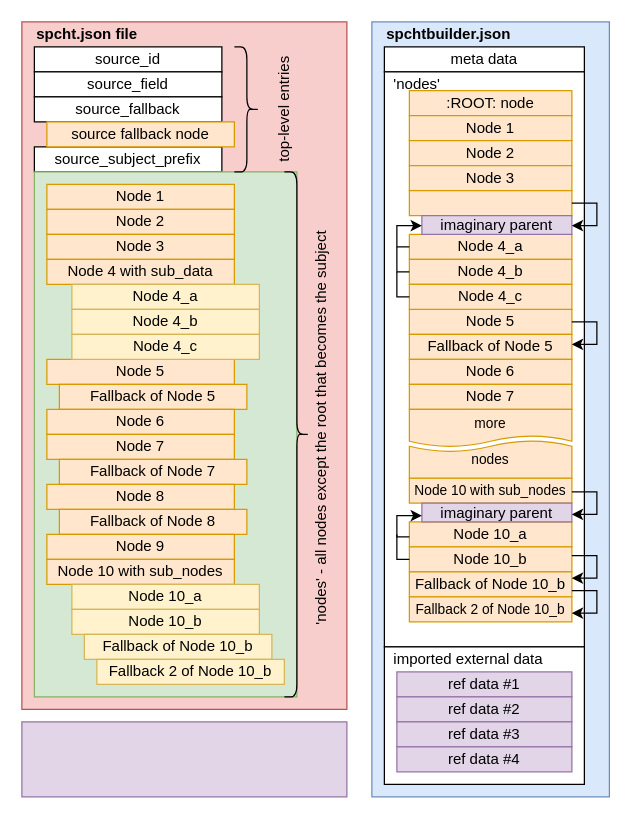
This 631x819 diagram has some shape labels left out. Each missing label, with the box of its shape:
external data used for mappings: (21, 721, 347, 797)
Node 4: (408, 189, 572, 216)
